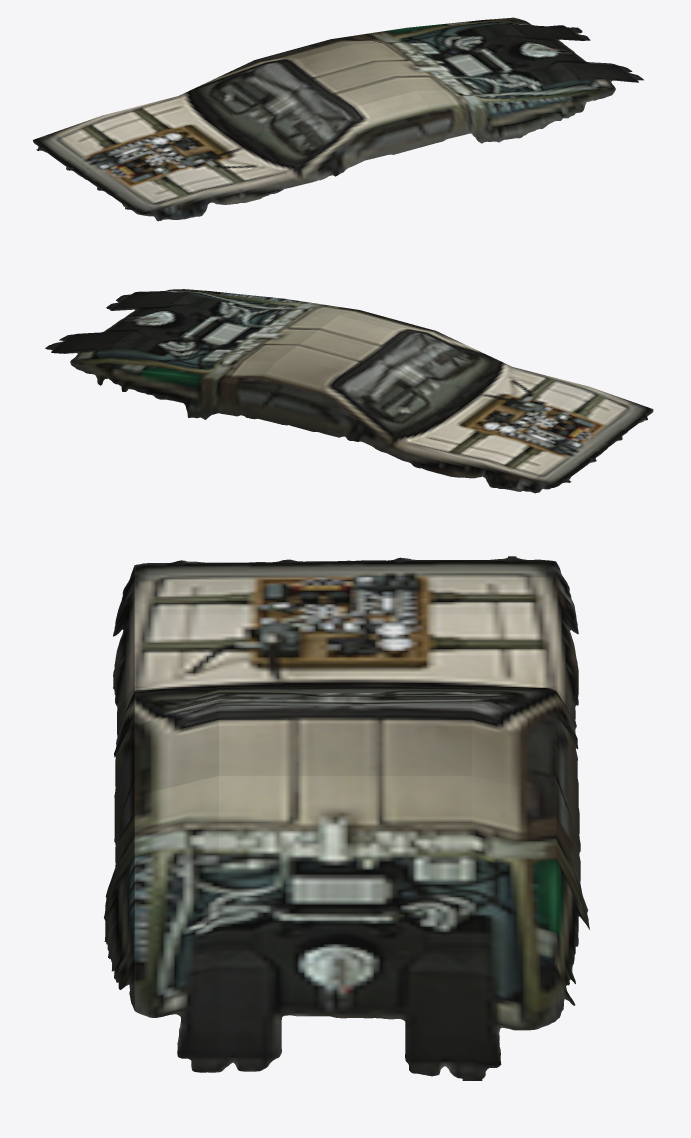
The model's file is car-test.fbx.
3 renders of one model, top to bottom at view 1: azimuth 30°, elevation 25°; view 2: azimuth 150°, elevation 25°; view 3: azimuth 270°, elevation 25°, orthographic. The views are drawn at different scales.
Visible parts, largest first — view 1: car1; view 2: car1; view 3: car1.
Part boxes in pixels (x1,y1,x2,y2): car1: (33,17,643,221); car1: (45,289,653,493); car1: (104,556,589,1080).
Size of the model in its own units: 99.99 by 12.12 by 42.02.
Materials: 1 (1 with a texture image).
